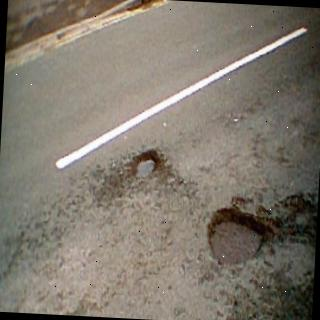pothole: (208, 208, 268, 265), (134, 149, 161, 178)
